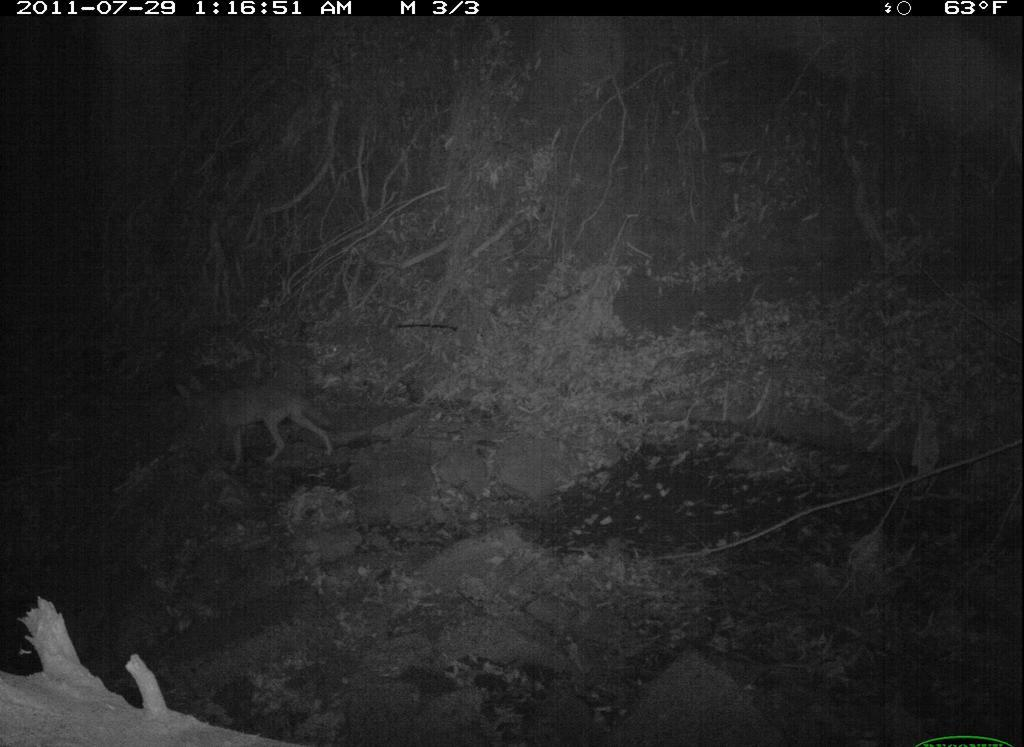coyote: (174, 373, 341, 472)
